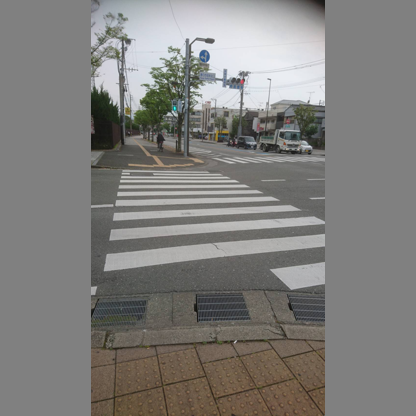brailleblock: (117, 357, 201, 416), (204, 363, 287, 416), (284, 356, 323, 415)
crosswalk: (114, 205, 321, 290), (120, 175, 224, 207)
signal: (172, 99, 177, 111)
